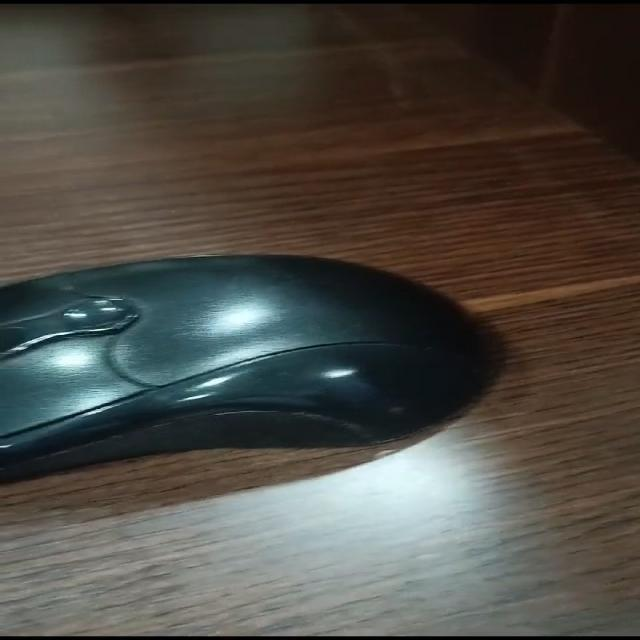mouse: (0, 218, 510, 540)
